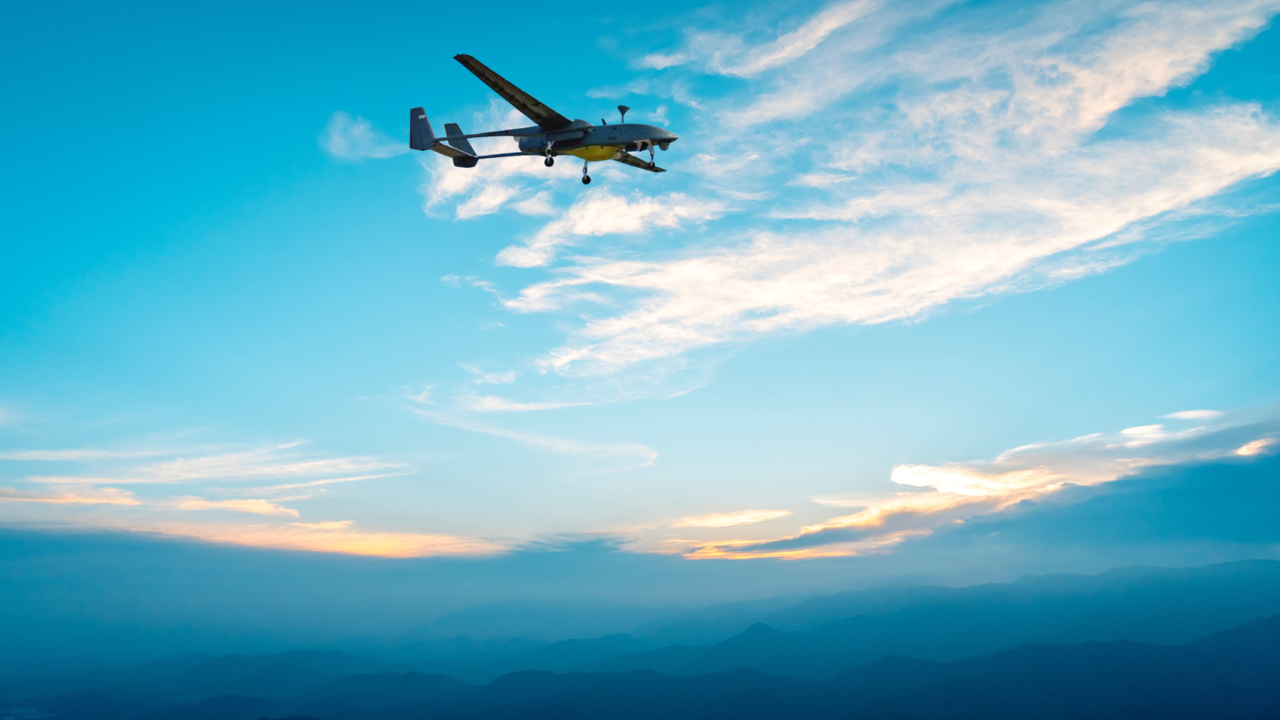military drone: (409, 53, 678, 184)
